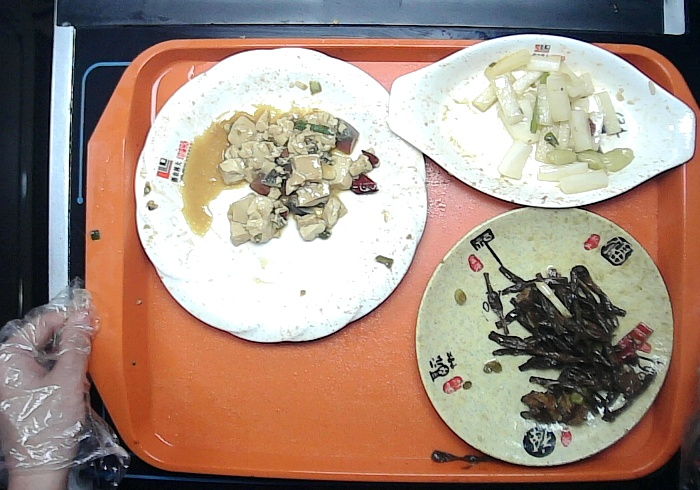NLDX-Bai_Zhe_Yuan_Pan: (131, 44, 429, 344)
NLDX-Fu_Zi_Yuan_Pan: (413, 205, 674, 467)
NLDX-Yu_Pan: (386, 31, 700, 210)
